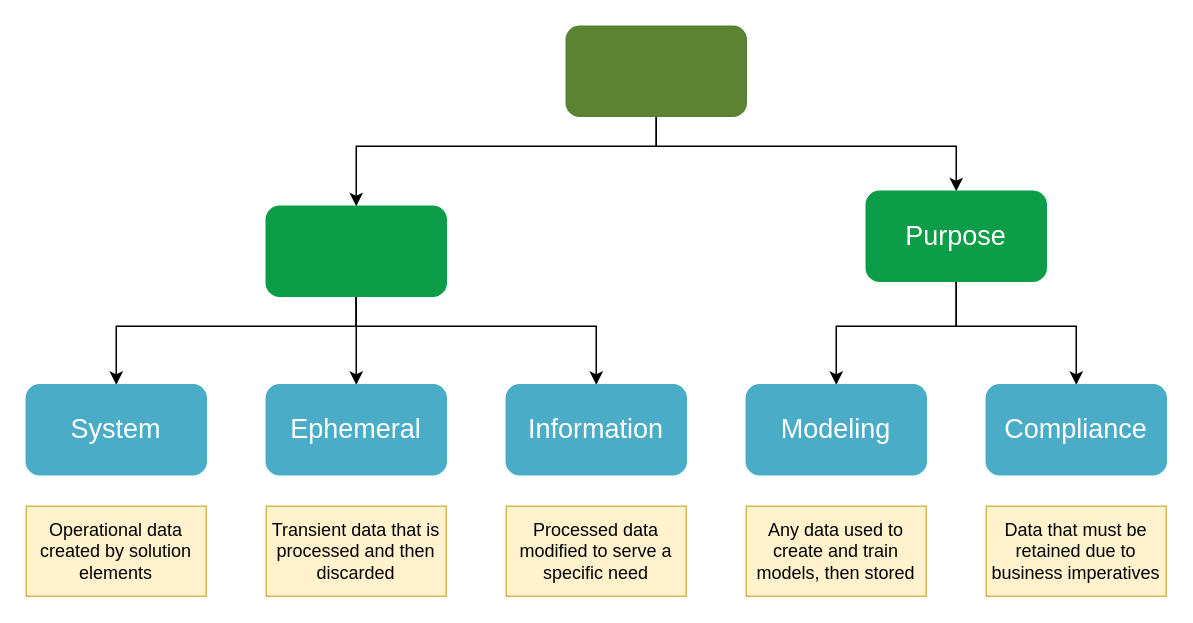
This 1193x623 diagram has some shape labels left out. The shapes that lost their labels are listed below. From the top down, each one's box as (x1, y1, x2, y2) in pixels, then its label:
(565, 25, 746, 116): Edge Data
(265, 205, 446, 296): Source
